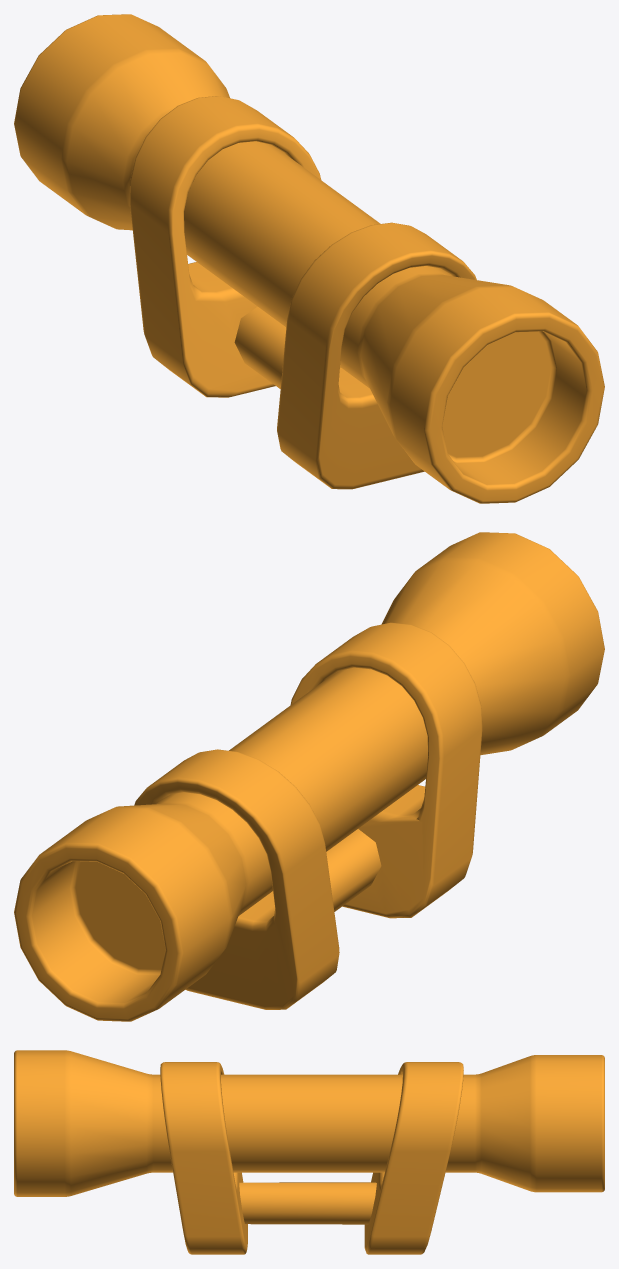
File: part_sight_04.fbx
The picture shows the model from 3 angles, top to bottom: view 1: azimuth 30°, elevation 25°; view 2: azimuth 150°, elevation 25°; view 3: azimuth 270°, elevation 25°; orthographic projection. The views are drawn at different scales.
Parts seen in each view (by area): view 1: Cylinder; view 2: Cylinder; view 3: Cylinder.
Part boxes in pixels (x1,y1,x2,y2): Cylinder: [14, 14, 604, 503]; Cylinder: [14, 532, 604, 1021]; Cylinder: [14, 1050, 604, 1254].
Bounding box in the file's own units: 3.48 × 4.74 × 14.
